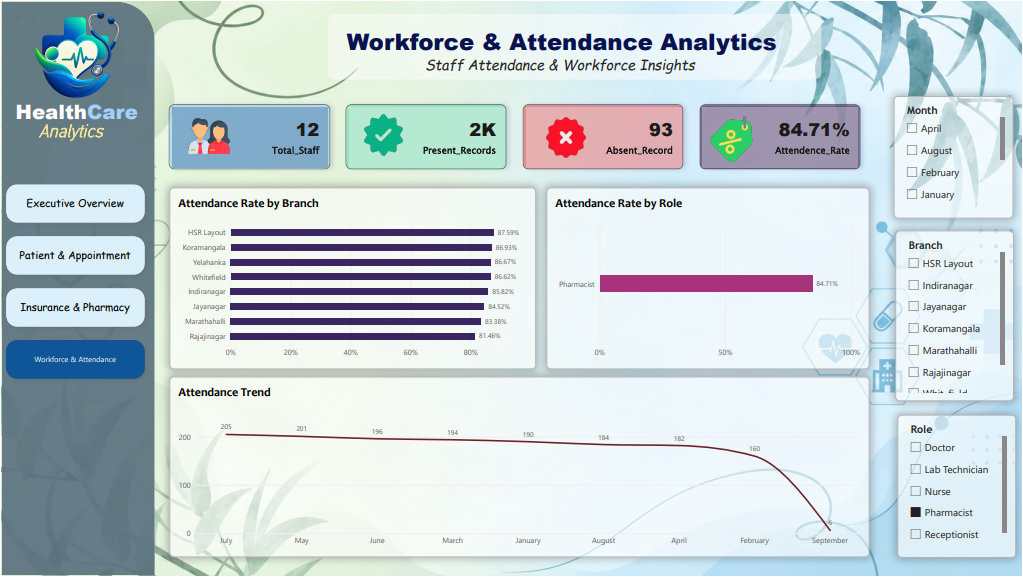

The page's visual inventory and layout, read from the dashboard file:
{"tool":"powerbi","page":{"name":"Workforce & Attendance","canvas":[1920,1080],"ordinal":3},"visuals":[{"type":"shape","box":[614,22.7,929.7,123.8],"z":0},{"type":"cardVisual","fields":{"Data":["Staff_Master.Total_Staff","Staff_Master.Present_Records","Staff_Master.Absent_Record","Staff_Master.Attendence_Rate"]},"box":[300,177.9,1334.3,153.5],"z":1000},{"type":"shape","box":[0,0,288,1080],"z":2000},{"type":"lineChart","title":"Attendance Trend","fields":{"Category":["Staff_Attendance.Attendance Month"],"Y":["Staff_Master.Present_Records"]},"box":[316,706,1318,340],"z":3000},{"type":"barChart","title":"Attendance Rate by Branch","fields":{"Category":["Staff_Master.Branch"],"Y":["Staff_Master.Attendence_Rate"]},"box":[316,350,690,342],"z":4000},{"type":"textbox","box":[315,650,150,430],"z":5000},{"type":"textbox","box":[650,44,908,84],"z":6000},{"type":"slicer","fields":{"Values":["Staff_Master.Role"]},"box":[1686.6,777.9,223.3,268.6],"z":7000},{"type":"slicer","fields":{"Values":["DateTable.Month"]},"box":[1679.7,177.9,225,230.2],"z":8000},{"type":"textbox","box":[798,100,610,55],"z":9000},{"type":"barChart","title":"Attendance Rate by Role","fields":{"Category":["Staff_Master.Role"],"Y":["Staff_Master.Attendence_Rate"]},"box":[1026,350,608,342],"z":10000},{"type":"image","box":[17.8,8.9,237.8,177.8],"z":11000},{"type":"pageNavigator","box":[0,315.6,277,410],"z":12000},{"type":"textbox","box":[70,223.8,148.9,62.2],"z":13000},{"type":"slicer","fields":{"Values":["Staff_Master.Branch"]},"box":[1683.1,430.8,223.3,320.9],"z":14000},{"type":"textbox","box":[26.2,178.8,337.3,90.2],"z":15000},{"type":"image","box":[352.3,190.1,76.7,127.3],"z":16000},{"type":"image","box":[1006.4,211,111.6,89],"z":17000},{"type":"image","box":[638.4,211,160.5,80.2],"z":18000},{"type":"image","box":[1332.6,216.3,83.7,83.7],"z":19000}]}

Visuals, with their boxes in screenshot pixels (x1, y1, x2, y2), scaled from the page's 1920x1080 canvas onto the 1023x577 screenshot:
shape: 327 12 823 78
cardVisual - Staff_Master.Total_Staff x Staff_Master.Present_Records: 160 95 871 177
shape: 0 0 153 576
"Attendance Trend" lineChart: 168 377 871 559
"Attendance Rate by Branch" barChart: 168 187 536 370
textbox: 168 347 248 576
textbox: 346 24 830 68
slicer - Staff_Master.Role: 899 416 1018 559
slicer - DateTable.Month: 895 95 1015 218
textbox: 425 53 750 83
"Attendance Rate by Role" barChart: 547 187 871 370
image: 9 5 136 100
pageNavigator: 0 169 148 388
textbox: 37 120 117 153
slicer - Staff_Master.Branch: 897 230 1016 402
textbox: 14 96 194 144
image: 188 102 229 170
image: 536 113 596 160
image: 340 113 426 156
image: 710 116 755 160
